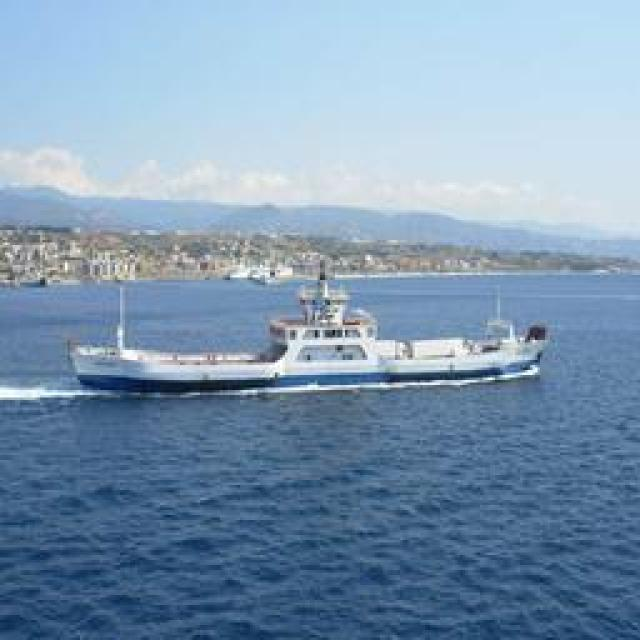CIV_Ship: (65, 297, 550, 395)
